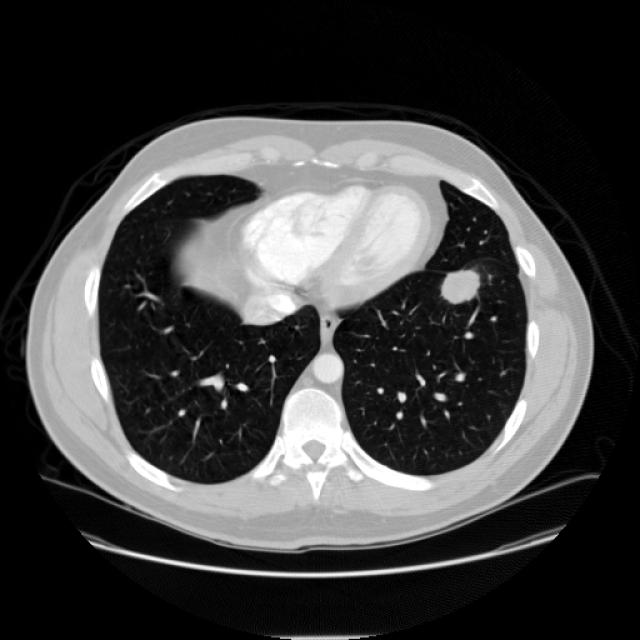nodule: (419, 244, 499, 324)
